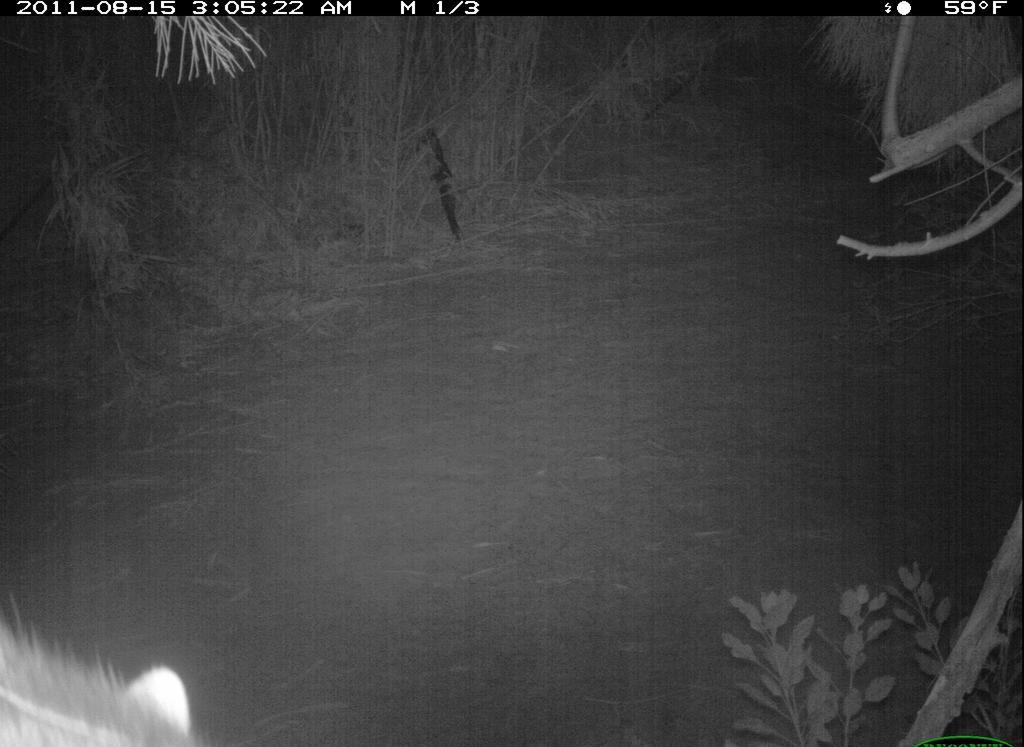raccoon: (1, 610, 230, 741)
